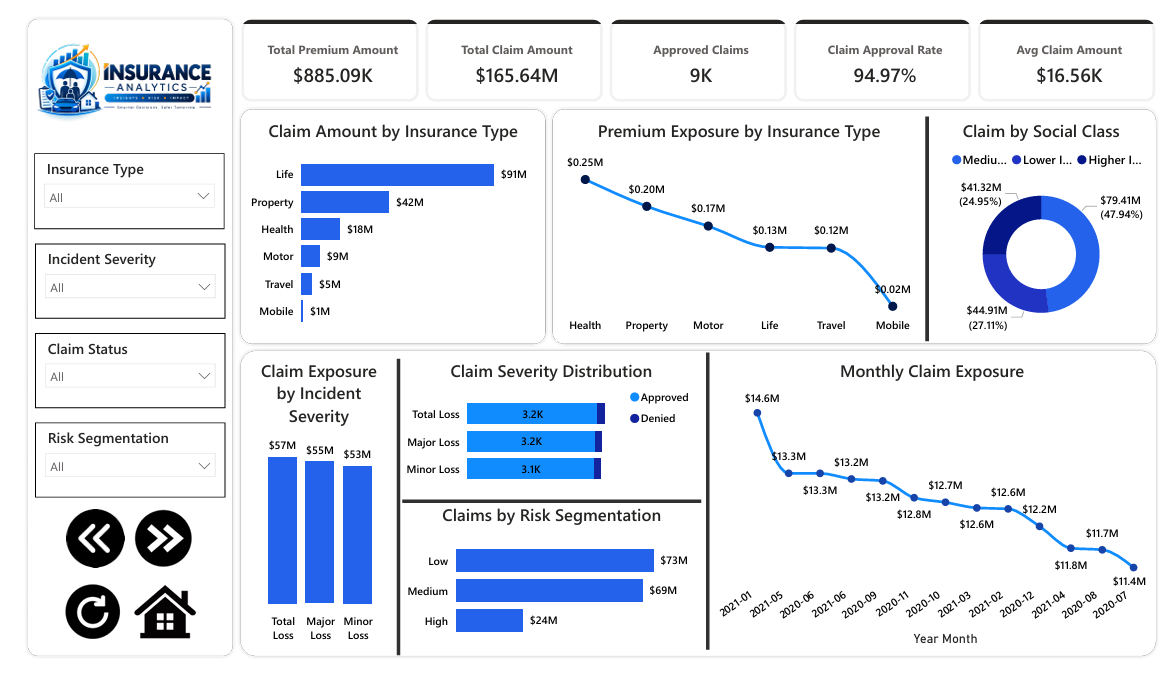

This screenshot's page, from the dashboard's own definition file:
{"tool":"powerbi","page":{"name":"Insurance & Claims Analytics","canvas":[1280,720],"ordinal":2},"visuals":[{"type":"cardVisual","fields":{"Data":["Measures .Total Premium Amount","Measures .Total Claim Amount","Measures .Approved Claims","Measures .Claim Approval Rate","Measures .Avg Claim Amount"]},"box":[247.8,0,1032.4,100.9],"z":0},{"type":"shape","box":[9.8,0,237.6,720.1],"z":1000},{"type":"slicer","fields":{"Values":["Insurance.INSURANCE_TYPE"]},"box":[20.5,154.4,213.5,84.5],"z":2000},{"type":"slicer","fields":{"Values":["Insurance.INCIDENT_SEVERITY"]},"box":[21.7,254.6,213.5,84.5],"z":3000},{"type":"slicer","fields":{"Values":["Insurance.CLAIM_STATUS"]},"box":[21.7,354.7,213.5,84.5],"z":4000},{"type":"slicer","fields":{"Values":["Insurance.RISK_SEGMENTATION"]},"box":[21.7,454.8,213.5,84.5],"z":5000},{"type":"shape","box":[247.8,100.9,348.7,270.2],"z":6000},{"type":"shape","box":[247.8,371.1,1032.4,348.7],"z":7000},{"type":"shape","box":[596.5,100.9,683.7,270.2],"z":8000},{"type":"barChart","title":"Claim Amount by Insurance Type","fields":{"Y":["Measures .Total Claim Amount"],"Category":["Insurance.INSURANCE_TYPE"]},"box":[256.6,115.8,331.3,244.1],"z":9000},{"type":"lineChart","title":"Premium Exposure by Insurance Type","fields":{"Category":["Insurance.INSURANCE_TYPE"],"Y":["Measures .Total Premium Amount"]},"box":[605.3,115.8,408.5,247.8],"z":10000},{"type":"donutChart","title":"Claim by Social Class","fields":{"Y":["Measures .Total Claim Amount"],"Category":["Insurance.SOCIAL_CLASS"]},"box":[1025,115.8,245.3,247.8],"z":11000},{"type":"columnChart","title":"Claim Exposure by Incident Severity","fields":{"Category":["Insurance.INCIDENT_SEVERITY"],"Y":["Measures .Total Claim Amount"]},"box":[256.6,383.6,165.6,325],"z":12000},{"type":"barChart","title":"Claim Severity Distribution","fields":{"Category":["Insurance.INCIDENT_SEVERITY"],"Series":["Insurance.CLAIM_STATUS"],"Y":["Measures .Total Transactions"]},"box":[430.9,383.6,337.5,153.2],"z":13000},{"type":"barChart","title":"Claims by Risk Segmentation","fields":{"Y":["Measures .Total Claim Amount"],"Category":["Insurance.RISK_SEGMENTATION"]},"box":[432.1,545.5,336.2,163.2],"z":14000},{"type":"lineChart","title":"Monthly Claim Exposure","fields":{"Y":["Measures .Total Claim Amount"],"Category":["Date Table.Year Month"]},"box":[780.9,383.6,489.4,325],"z":15000},{"type":"image","box":[8.8,5,226.2,141.2],"z":16000},{"type":"shape","box":[1013.7,113.3,12.4,250.3],"z":17000},{"type":"shape","box":[768.4,377.4,12.4,331.3],"z":18000},{"type":"shape","box":[422.2,383.6,12.4,331.3],"z":19000},{"type":"shape","box":[433.4,536.8,333.8,12.4],"z":20000},{"type":"actionButton","box":[122.3,620,90.5,91.7],"z":21000},{"type":"actionButton","box":[57.5,549,64.8,70.9],"z":22000},{"type":"actionButton","box":[128.4,549,74.6,70.9],"z":23000},{"type":"actionButton","box":[46.5,620,80.7,91.7],"z":24000}]}

Visuals, with their boxes on the page's 1280x720 design canvas (x1, y1, x2, y2). These are canvas units, not pixel positions in the 1165x680 screenshot, which may show the page scaled, cropped or inside an application window:
cardVisual - Measures .Total Premium Amount x Measures .Total Claim Amount: left=248, top=0, right=1280, bottom=101
shape: left=10, top=0, right=247, bottom=720
slicer - Insurance.INSURANCE_TYPE: left=20, top=154, right=234, bottom=239
slicer - Insurance.INCIDENT_SEVERITY: left=22, top=255, right=235, bottom=339
slicer - Insurance.CLAIM_STATUS: left=22, top=355, right=235, bottom=439
slicer - Insurance.RISK_SEGMENTATION: left=22, top=455, right=235, bottom=539
shape: left=248, top=101, right=596, bottom=371
shape: left=248, top=371, right=1280, bottom=720
shape: left=596, top=101, right=1280, bottom=371
"Claim Amount by Insurance Type" barChart: left=257, top=116, right=588, bottom=360
"Premium Exposure by Insurance Type" lineChart: left=605, top=116, right=1014, bottom=364
"Claim by Social Class" donutChart: left=1025, top=116, right=1270, bottom=364
"Claim Exposure by Incident Severity" columnChart: left=257, top=384, right=422, bottom=709
"Claim Severity Distribution" barChart: left=431, top=384, right=768, bottom=537
"Claims by Risk Segmentation" barChart: left=432, top=546, right=768, bottom=709
"Monthly Claim Exposure" lineChart: left=781, top=384, right=1270, bottom=709
image: left=9, top=5, right=235, bottom=146
shape: left=1014, top=113, right=1026, bottom=364
shape: left=768, top=377, right=781, bottom=709
shape: left=422, top=384, right=435, bottom=715
shape: left=433, top=537, right=767, bottom=549
actionButton: left=122, top=620, right=213, bottom=712
actionButton: left=58, top=549, right=122, bottom=620
actionButton: left=128, top=549, right=203, bottom=620
actionButton: left=46, top=620, right=127, bottom=712
